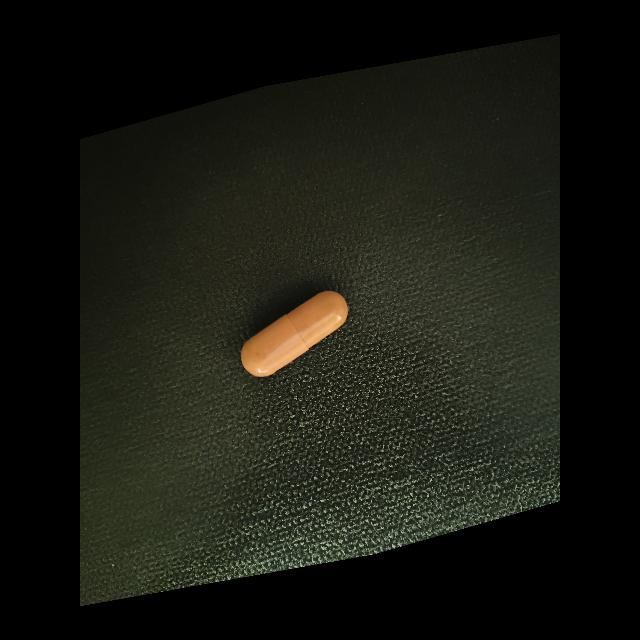Intact Capsule: (241, 291, 348, 377)
